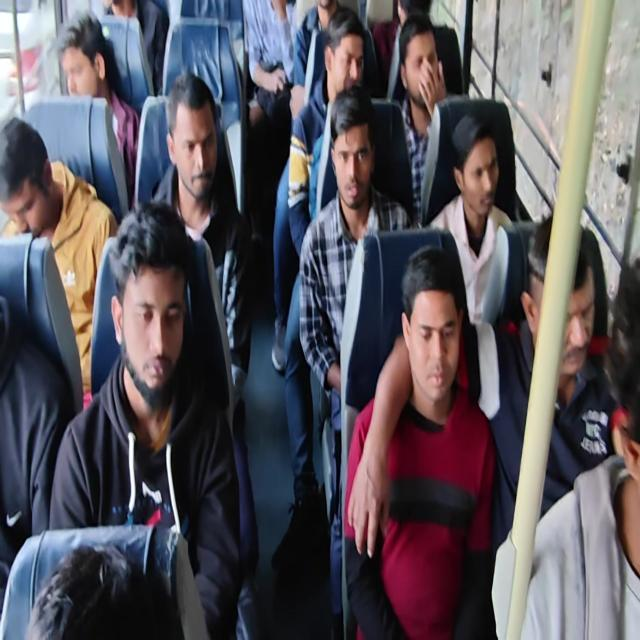person: (108, 214, 194, 398), (38, 539, 172, 640), (526, 232, 593, 384), (53, 17, 129, 116), (0, 118, 61, 229), (164, 91, 222, 205), (404, 269, 454, 395), (613, 265, 640, 493), (400, 24, 450, 117), (326, 110, 375, 199), (457, 135, 505, 224), (322, 34, 364, 96), (390, 0, 426, 36), (311, 0, 348, 18)
